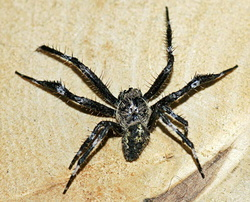spider: (14, 3, 244, 197)
